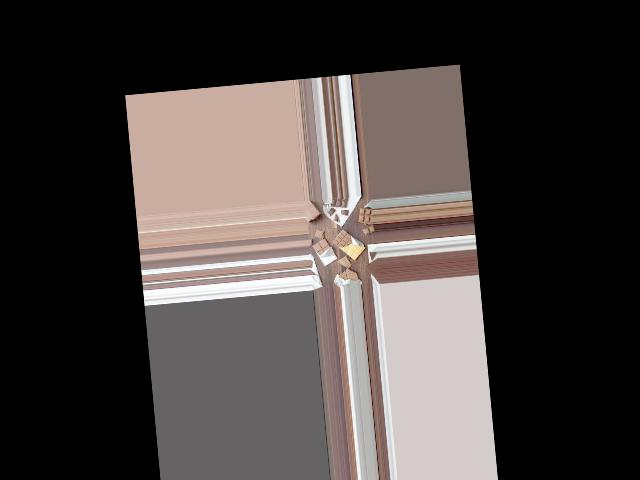chocolate: (309, 237, 338, 265)
